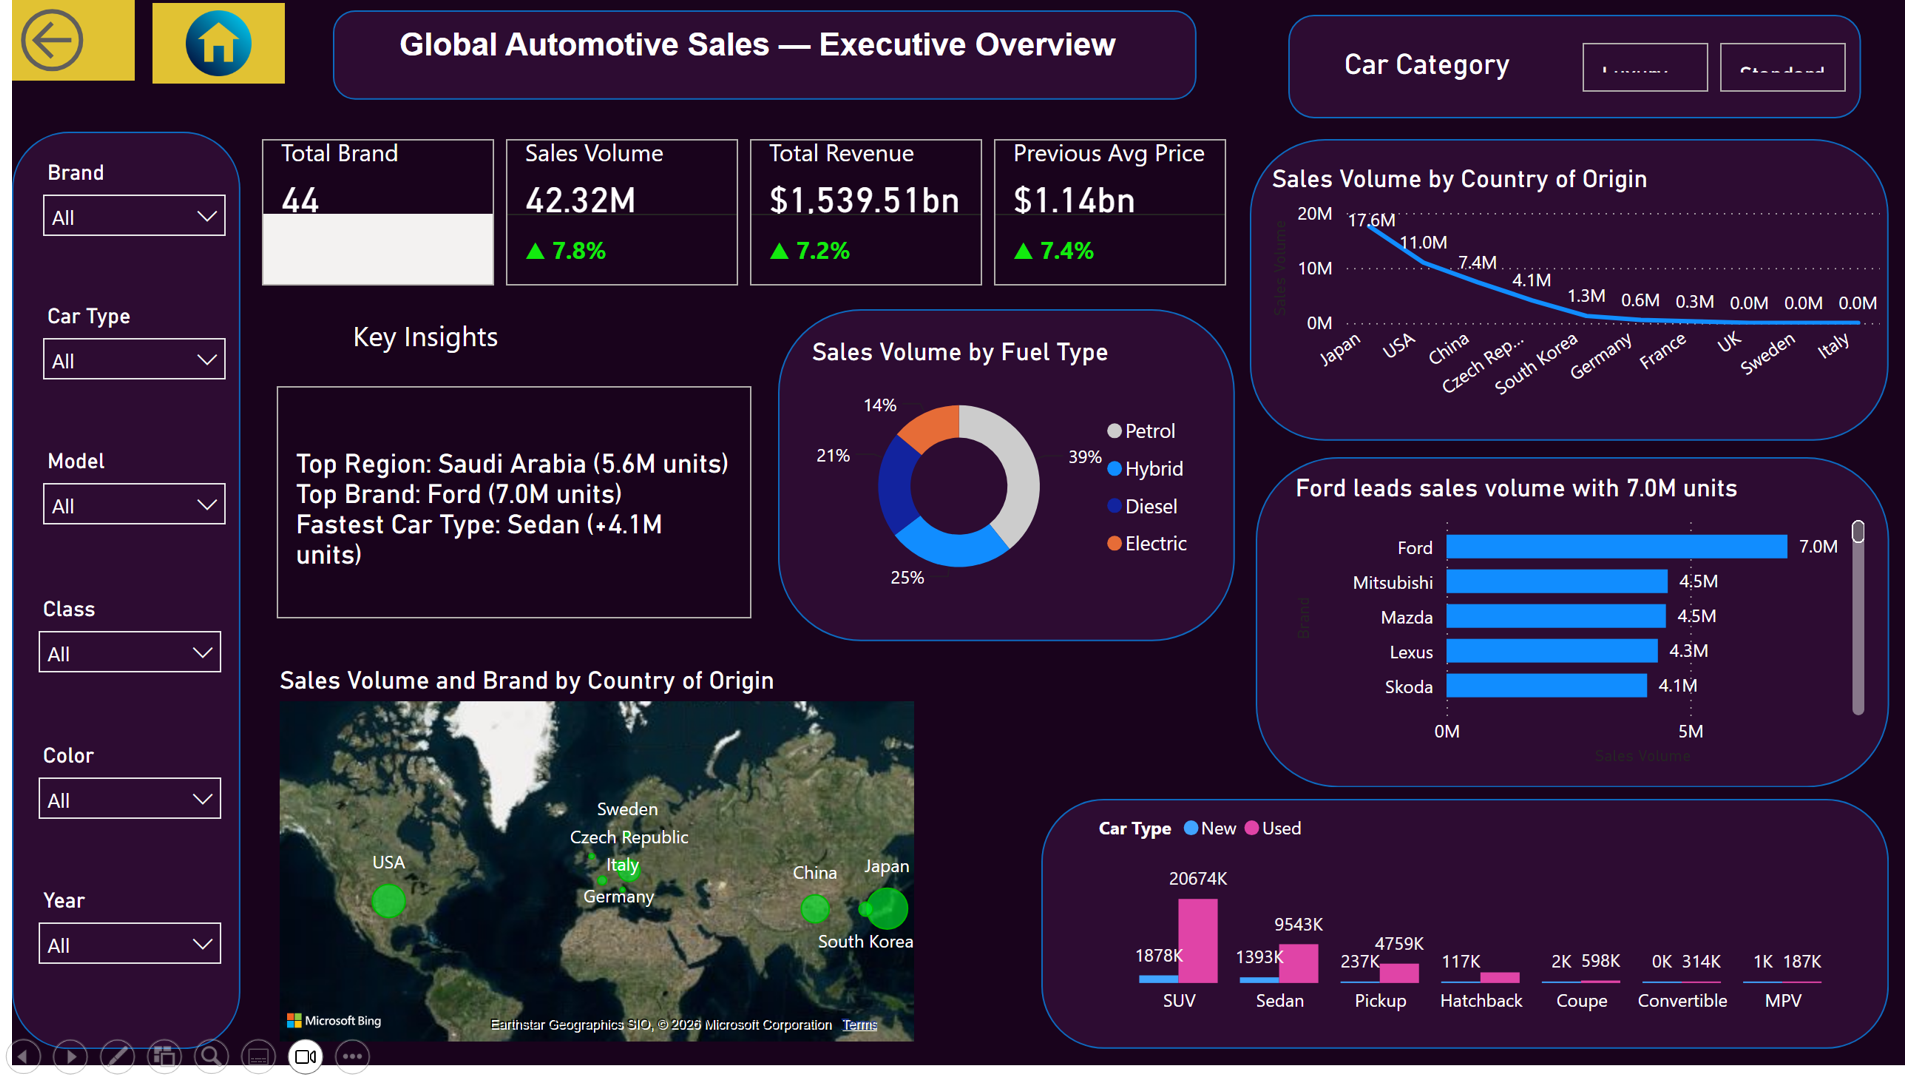

This screenshot's page, from the dashboard's own definition file:
{"tool":"powerbi","page":{"name":"Executive Sales Overview","canvas":[1280,720],"ordinal":1},"visuals":[{"type":"shape","box":[217.2,7.2,583.9,60.3],"z":0},{"type":"textbox","box":[217.2,13.3,575.5,51.9],"z":1000},{"type":"shape","box":[862.6,9.7,387.3,70],"z":2000},{"type":"shape","box":[0,89.3,154.4,620.1],"z":3000},{"type":"shape","box":[517.6,208.7,308.8,224.4],"z":4000},{"type":"slicer","fields":{"Values":["Full Raw Data.Brand"]},"box":[10.6,103.3,143.6,85.7],"z":5000},{"type":"slicer","fields":{"Values":["Full Raw Data.Car_Type"]},"box":[10.6,199.8,143.6,85.7],"z":6000},{"type":"slicer","fields":{"Values":["Full Raw Data.Class"]},"box":[8.4,398.1,143.6,85.7],"z":7000},{"type":"advancedSlicerVisual","fields":{"Values":["Full Raw Data.Car_Category"]},"box":[1056.8,24.1,188.2,43.4],"z":8000},{"type":"slicer","fields":{"Values":["Full Raw Data.Color"]},"box":[8.4,497.1,143.6,85.7],"z":9000},{"type":"slicer","fields":{"Values":["Full Raw Data.Model"]},"box":[10.6,297.5,143.6,85.7],"z":10000},{"type":"slicer","fields":{"Values":["Calender.Year"]},"box":[8.4,594.8,143.6,74.8],"z":11000},{"type":"textbox","box":[896.4,26.5,138.7,38.6],"z":12000},{"type":"donutChart","fields":{"Category":["Full Raw Data.Fuel_Type"],"Y":["Sum(Full Raw Data.Sales_Volume)"]},"box":[535.7,228,272.7,182.2],"z":13000},{"type":"shape","box":[837.3,94.1,431.9,203.9],"z":14000},{"type":"shape","box":[696.1,540.5,573.1,168.9],"z":15000},{"type":"clusteredColumnChart","fields":{"Category":["Full Raw Data.Class"],"Y":["Sum(Full Raw Data.Sales_Volume)"],"Series":["Full Raw Data.Car_Type"]},"box":[729.9,540.5,527.2,154.4],"z":16000},{"type":"map","fields":{"Category":["Full Raw Data.Country_of_Origin"],"Size":["Sum(Full Raw Data.Sales_Volume)"]},"box":[176.1,450,439.1,259.4],"z":17000},{"type":"lineChart","fields":{"Category":["Full Raw Data.Country_of_Origin"],"Y":["Sum(Full Raw Data.Sales_Volume)"]},"box":[846.9,111,421,171.3],"z":18000},{"type":"actionButton","box":[0,0,83.2,54.3],"z":19000},{"type":"cardVisual","fields":{"Data":["Count(Full Raw Data.Brand)","Sum(Full Raw Data.Sales_Volume)","Sum(Full Raw Data.Total Revenue)","Calculation.Previous Avg Price"]},"box":[164.1,89.3,662.3,109.8],"z":20000},{"type":"image","box":[95.3,2.4,89.3,54.3],"z":21000},{"type":"shape","box":[840.9,308.8,428.3,223.2],"z":22000},{"type":"barChart","title":"Ford leads sales volume with 7.0M units","fields":{"Category":["Full Raw Data.Brand"],"Y":["Sum(Full Raw Data.Sales_Volume)"]},"box":[862.6,319.7,394.5,201.5],"z":23000},{"type":"cardVisual","fields":{"Data":["Calculation.Key Insights"]},"box":[173.7,255.8,331.8,167.7],"z":24000},{"type":"textbox","box":[194.2,208.7,171.3,43.4],"z":25000}]}

Visuals, with their boxes on the page's 1280x720 design canvas (x1, y1, x2, y2). These are canvas units, not pixel positions in the 1920x1080 screenshot, which may show the page scaled, cropped or inside an application window:
shape: [217,7,801,68]
textbox: [217,13,793,65]
shape: [863,10,1250,80]
shape: [0,89,154,709]
shape: [518,209,826,433]
slicer - Full Raw Data.Brand: [11,103,154,189]
slicer - Full Raw Data.Car_Type: [11,200,154,286]
slicer - Full Raw Data.Class: [8,398,152,484]
advancedSlicerVisual - Full Raw Data.Car_Category: [1057,24,1245,68]
slicer - Full Raw Data.Color: [8,497,152,583]
slicer - Full Raw Data.Model: [11,298,154,383]
slicer - Calender.Year: [8,595,152,670]
textbox: [896,26,1035,65]
donutChart - Full Raw Data.Fuel_Type x Sum(Full Raw Data.Sales_Volume): [536,228,808,410]
shape: [837,94,1269,298]
shape: [696,540,1269,709]
clusteredColumnChart - Full Raw Data.Class x Sum(Full Raw Data.Sales_Volume): [730,540,1257,695]
map - Full Raw Data.Country_of_Origin x Sum(Full Raw Data.Sales_Volume): [176,450,615,709]
lineChart - Full Raw Data.Country_of_Origin x Sum(Full Raw Data.Sales_Volume): [847,111,1268,282]
actionButton: [0,0,83,54]
cardVisual - Count(Full Raw Data.Brand) x Sum(Full Raw Data.Sales_Volume): [164,89,826,199]
image: [95,2,185,57]
shape: [841,309,1269,532]
"Ford leads sales volume with 7.0M units" barChart: [863,320,1257,521]
cardVisual - Calculation.Key Insights: [174,256,506,424]
textbox: [194,209,366,252]
